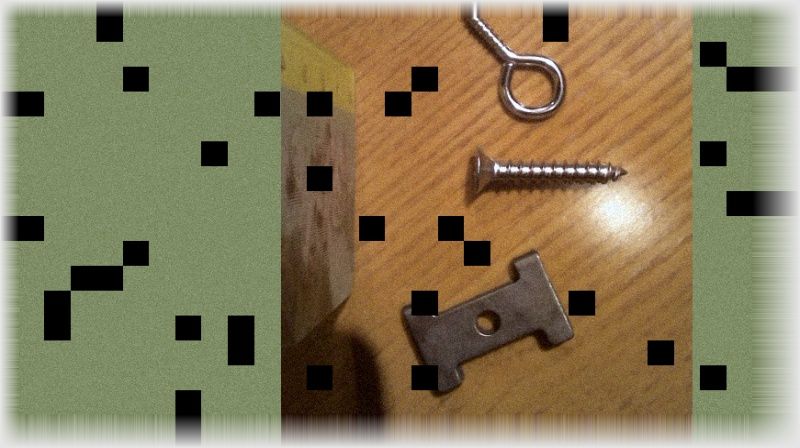O001: (457, 4, 570, 125)
O002: (400, 247, 577, 397)
S001: (468, 141, 629, 196)
